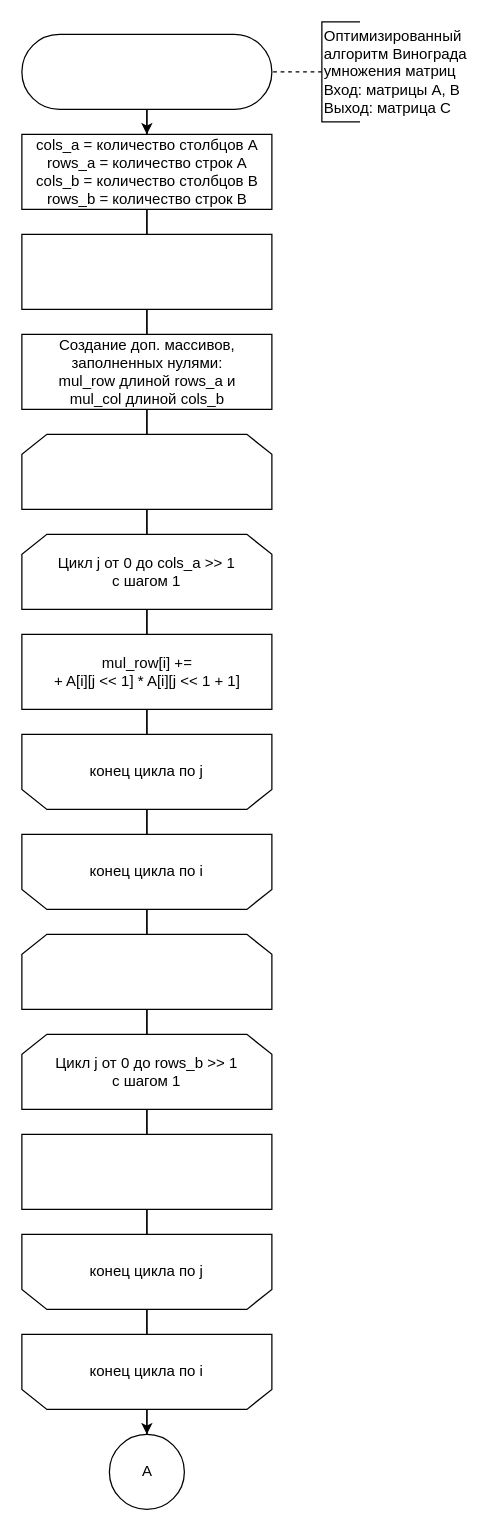
Some shapes in this 489 by 1531 pixel diagram are drawn without their labels. The shapes that lost their labels are listed below. From the top down, each one's box as (x1, y1, x2, y2) in pixels, then its label:
(21, 33, 272, 109): Начало
(21, 233, 272, 309): Создание матрицы C размером cols_b * rows_a и заполнение ее 0
(21, 433, 272, 509): Цикл i от 0 до rows_a с шагом 1
(21, 933, 272, 1009): Цикл i от 0 до cols_b с шагом 1
(21, 1133, 272, 1209): mul_col[i] += + B[j << 1][i] * B[j << 1 + 1][i]
